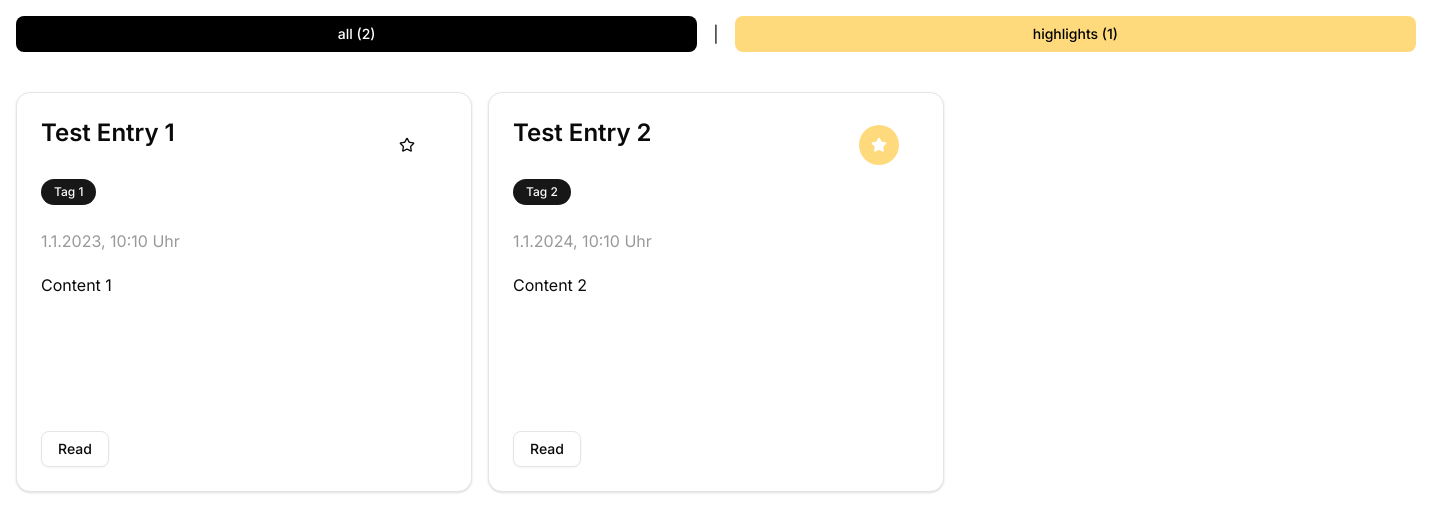
SwitchDisplay › switches back to all entries when all button is clicked
Click the button with aria-label "switchHighlight". click: (1075, 34)
box: [735,16,1416,52]
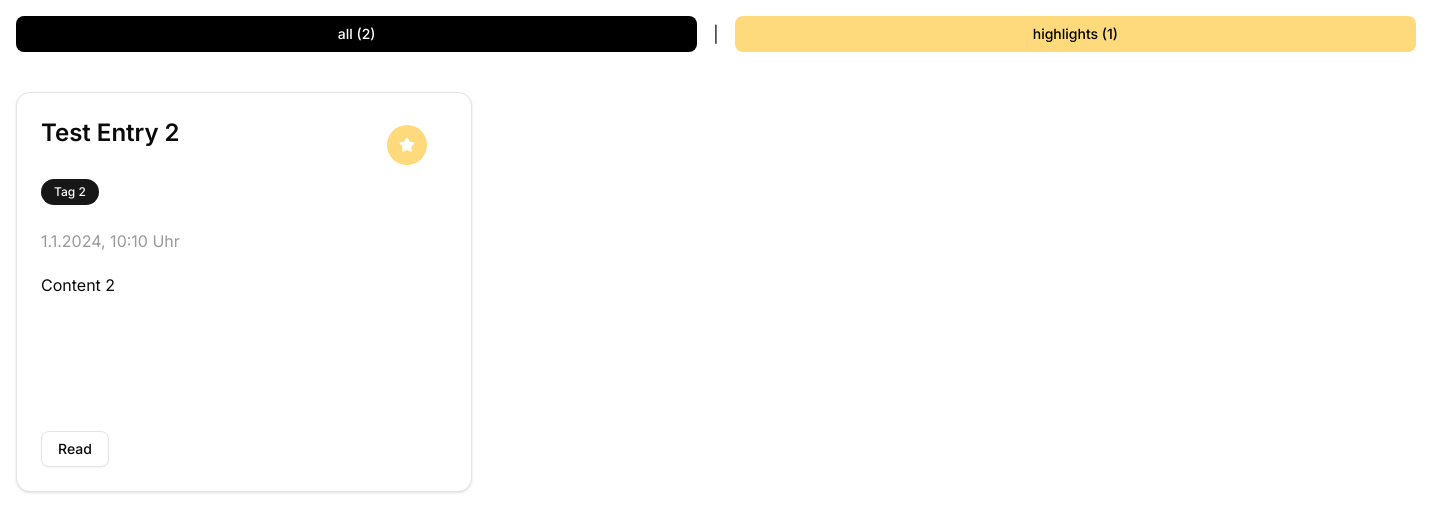
Check: the heading "Test Entry 1" is gone
Click the button with aria-label "switchAll". click: (357, 34)
box: [16,16,697,52]
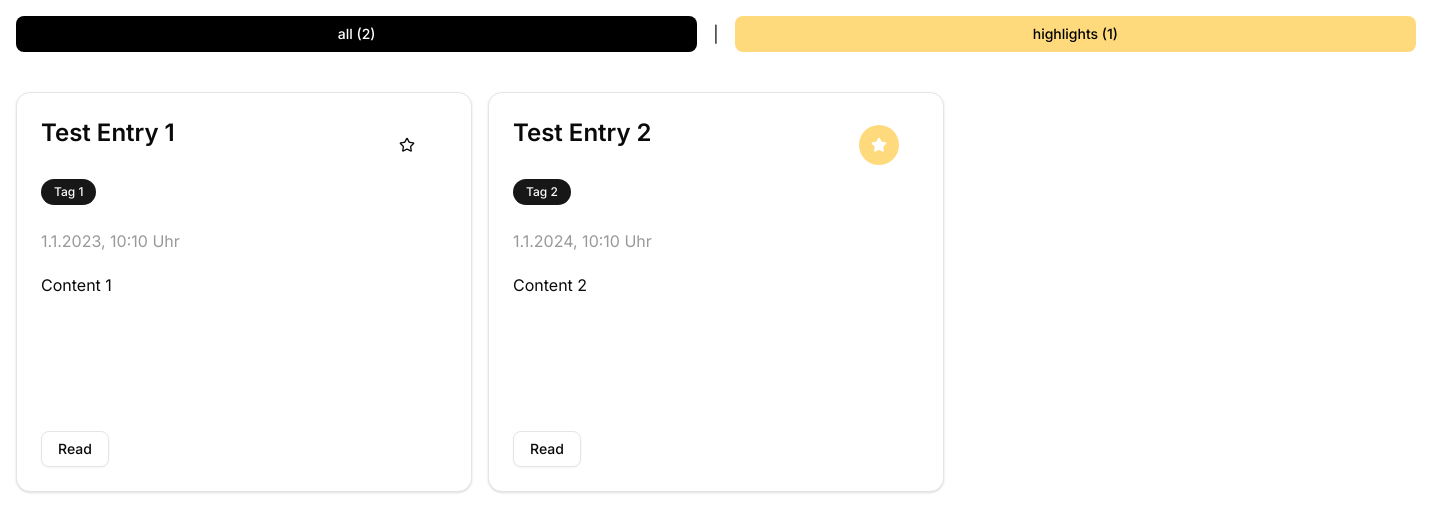
Check: the heading "Test Entry 2" is shown, box [513,118,652,147]
Check: the heading "Test Entry 1" is shown, box [41,118,175,147]
